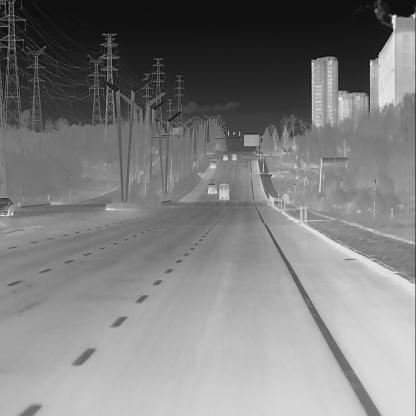car: (0, 196, 14, 215), (218, 182, 230, 200), (207, 182, 217, 194), (230, 152, 238, 162), (209, 159, 217, 168), (222, 152, 229, 162)
